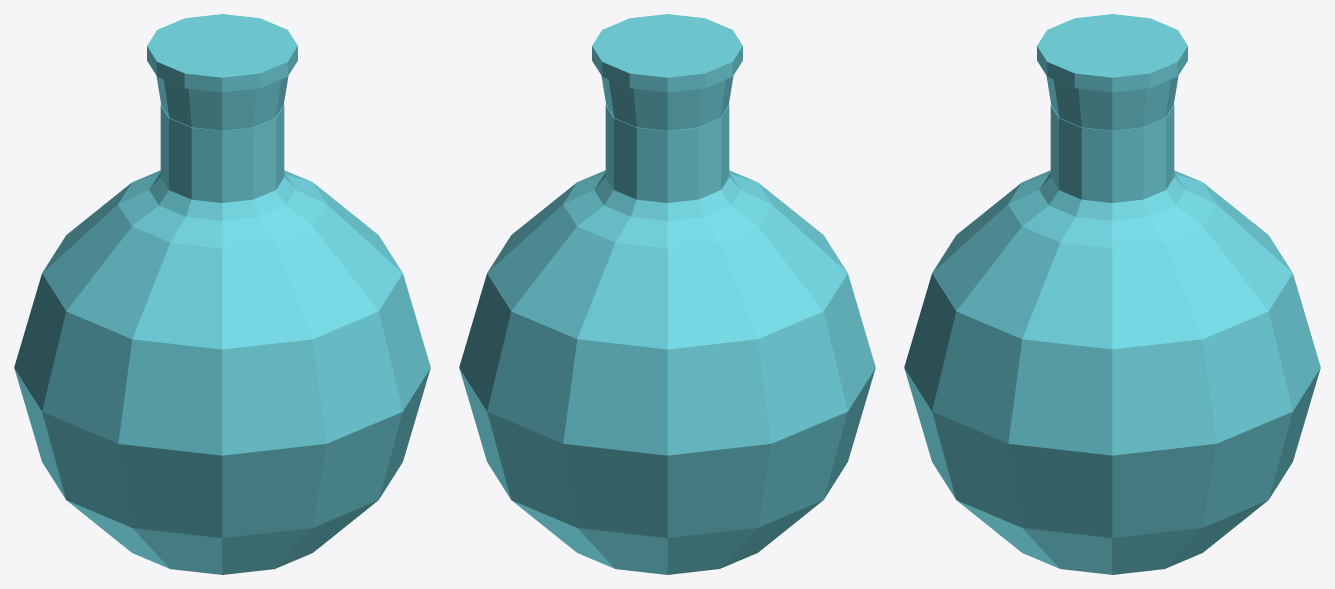
The model's file is SM_Flask_3_A.gltf.
3 renders of one model, left to right at view 1: azimuth 30°, elevation 25°; view 2: azimuth 150°, elevation 25°; view 3: azimuth 270°, elevation 25°, orthographic.
Visible parts, largest first — view 1: SM_Flask_3_A, SM_Flask_Lid_A; view 2: SM_Flask_3_A, SM_Flask_Lid_A; view 3: SM_Flask_3_A, SM_Flask_Lid_A.
Part boxes in pixels (x1,y1,x2,y2): SM_Flask_3_A: [14, 104, 430, 574]; SM_Flask_Lid_A: [147, 14, 297, 130]; SM_Flask_3_A: [459, 104, 875, 574]; SM_Flask_Lid_A: [592, 14, 742, 130]; SM_Flask_3_A: [904, 104, 1320, 574]; SM_Flask_Lid_A: [1037, 14, 1187, 130].
Bounding box in the file's own units: 0.2142 × 0.2863 × 0.2142.
